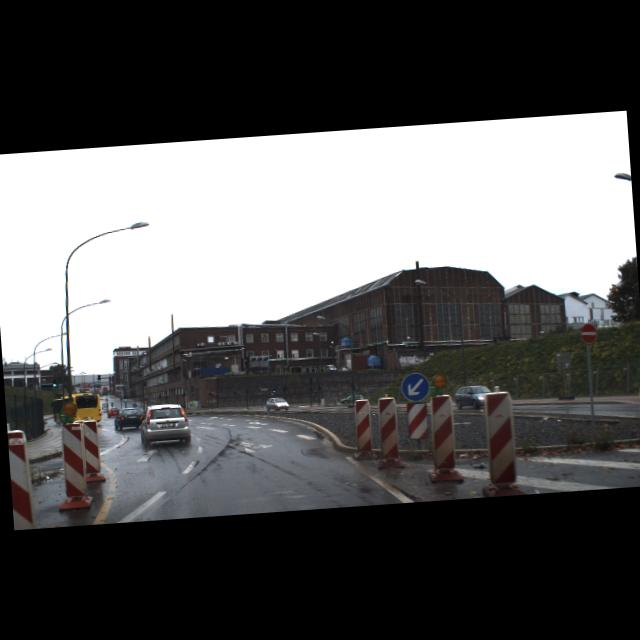mandatory: (400, 372, 430, 403)
other: (580, 323, 597, 344)
